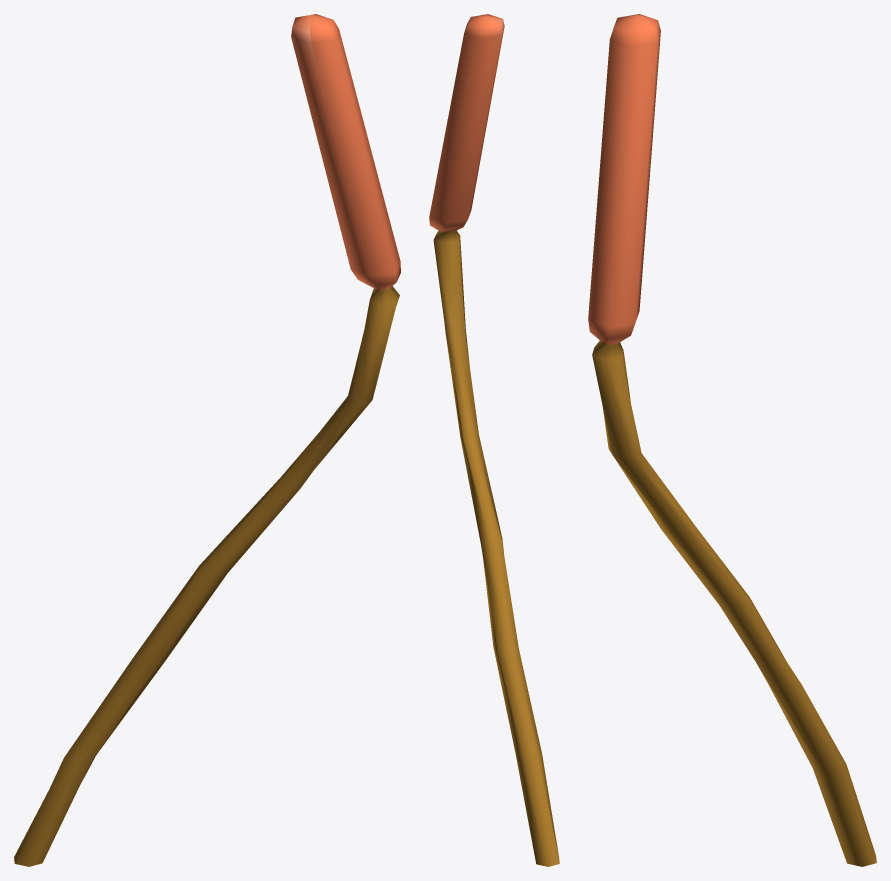
Rendered from RabodeGato1.fbx.
The picture shows the model from 3 angles, left to right: view 1: azimuth 30°, elevation 25°; view 2: azimuth 150°, elevation 25°; view 3: azimuth 270°, elevation 25°; orthographic projection. The views are drawn at different scales.
Parts seen in each view (by area): view 1: RabodeGato.001; view 2: RabodeGato.001; view 3: RabodeGato.001.
Boxes of the visible parts, x1,y1,x2,y2 form: RabodeGato.001: [14, 14, 400, 866]; RabodeGato.001: [429, 14, 559, 866]; RabodeGato.001: [588, 14, 876, 866].
Size of the model in its own units: 16.97 by 53.06 by 14.82.
